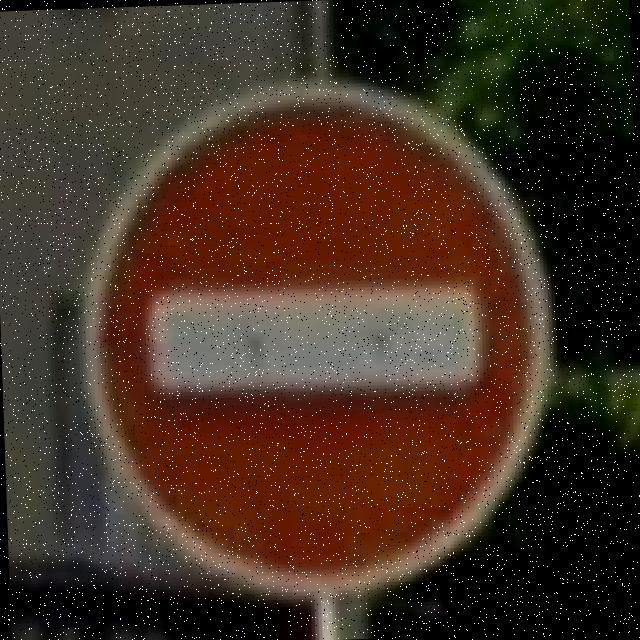Zakaz wjazdu: (68, 66, 566, 606)
